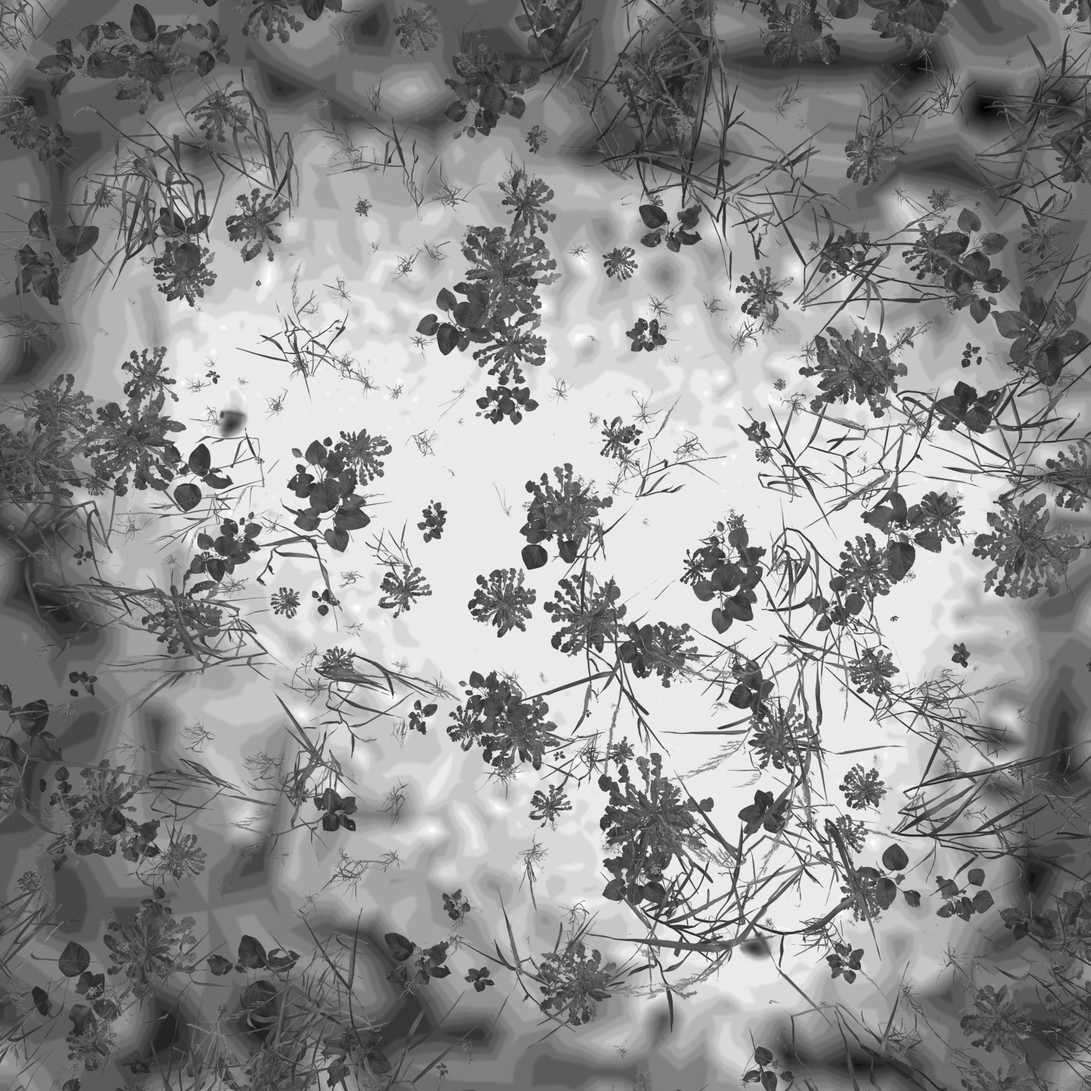landmine: (214, 380, 252, 440)
